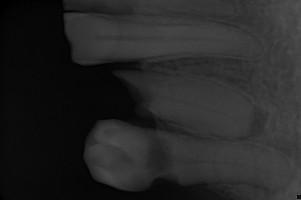Furcation Involvement: (248, 105, 269, 136)
